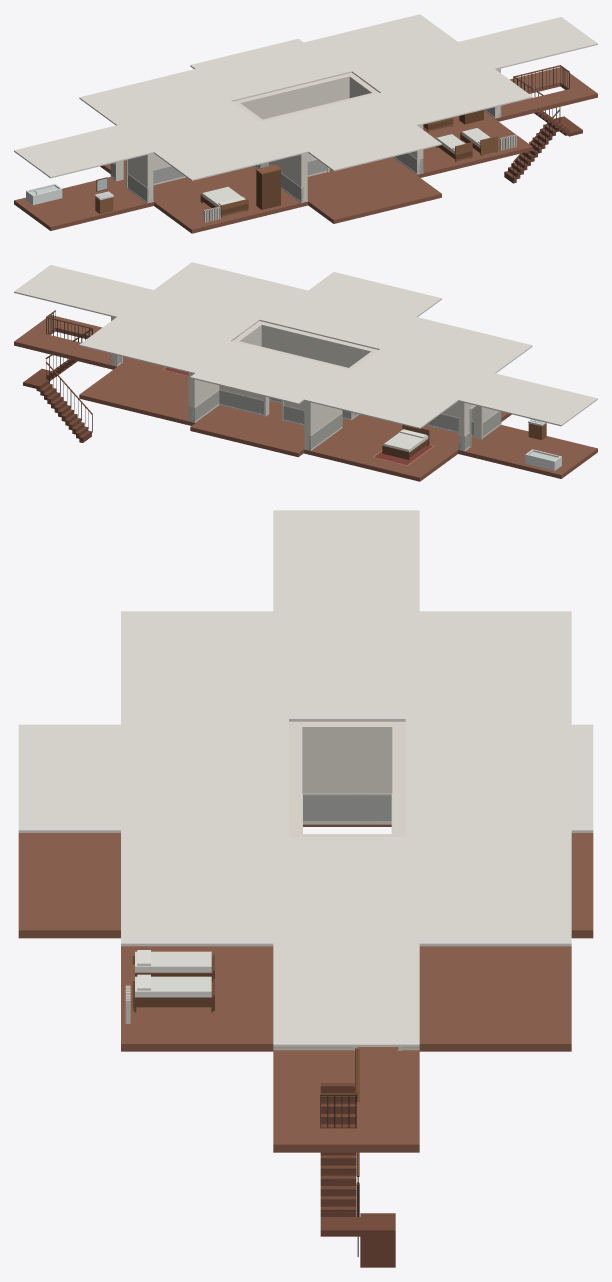
Rendered from piece_combles.glb.
3 views of the same model, one above another, from view 1: azimuth 30°, elevation 25°; view 2: azimuth 150°, elevation 25°; view 3: azimuth 270°, elevation 25° (orthographic). The views are drawn at different scales.
Visible parts, largest first — view 1: combles_dalle_plafond, combles_cloisons, combles_mobilier, combles_escalier_service, combles_garde_corps; view 2: combles_dalle_plafond, combles_cloisons, combles_mobilier, combles_escalier_service, combles_garde_corps, combles_chambranles; view 3: combles_dalle_plafond, combles_cloisons, combles_escalier_service, combles_mobilier, combles_garde_corps.
Part boxes in pixels (x1=…): combles_dalle_plafond: x1=14, y1=14, x2=597, y2=233; combles_cloisons: x1=110, y1=68, x2=501, y2=203; combles_mobilier: x1=26, y1=110, x2=516, y2=222; combles_escalier_service: x1=504, y1=111, x2=582, y2=183; combles_garde_corps: x1=513, y1=65, x2=569, y2=180; combles_dalle_plafond: x1=14, y1=262, x2=597, y2=481; combles_cloisons: x1=110, y1=316, x2=501, y2=451; combles_mobilier: x1=162, y1=325, x2=561, y2=470; combles_escalier_service: x1=23, y1=359, x2=91, y2=442; combles_garde_corps: x1=45, y1=310, x2=92, y2=432; combles_chambranles: x1=121, y1=356, x2=482, y2=447; combles_dalle_plafond: x1=18, y1=510, x2=593, y2=1152; combles_cloisons: x1=273, y1=721, x2=419, y2=1050; combles_escalier_service: x1=320, y1=1083, x2=395, y2=1267; combles_mobilier: x1=125, y1=946, x2=214, y2=1023; combles_garde_corps: x1=320, y1=1048, x2=359, y2=1256.
Size of the model in its own units: 31.96 by 7.84 by 14.52.
